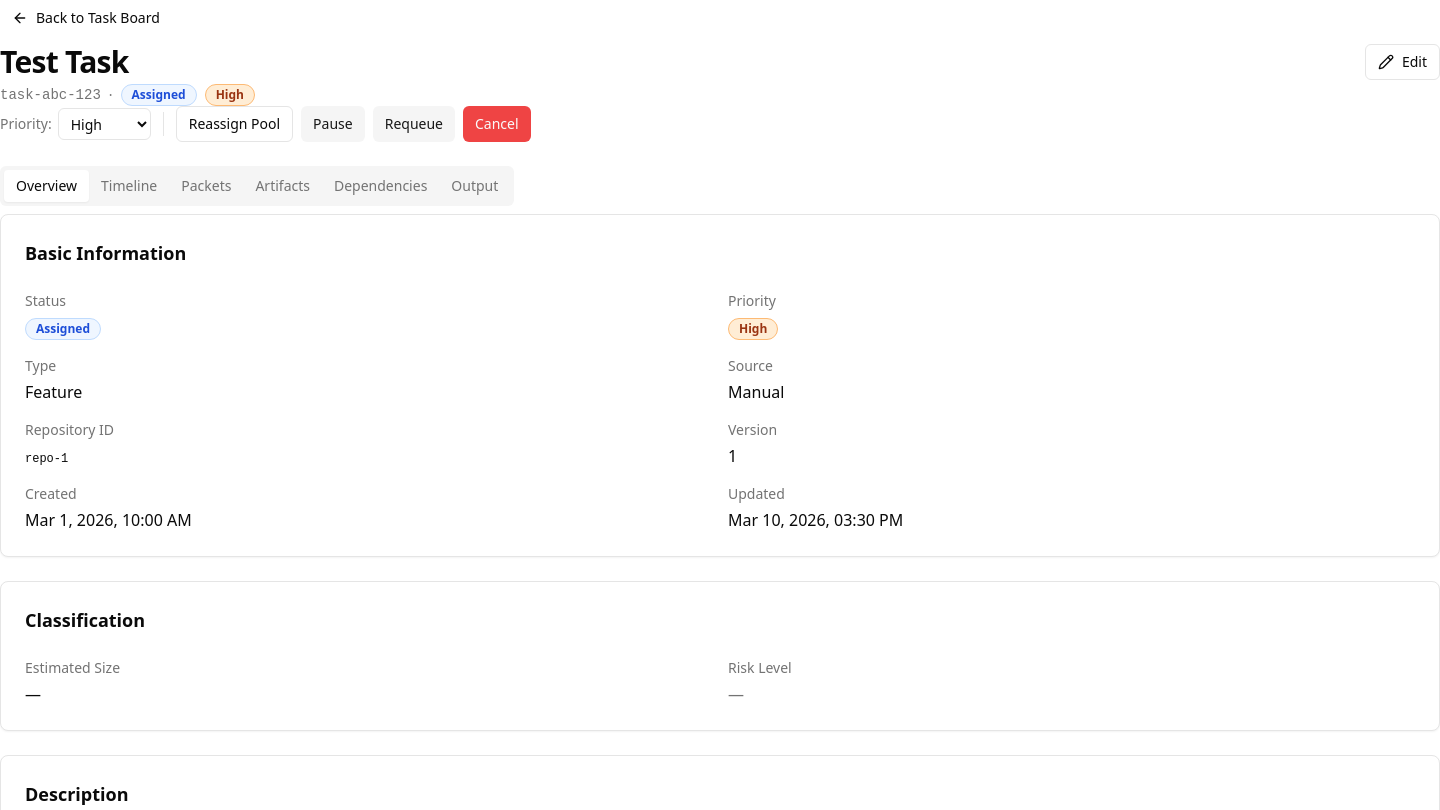
TaskActionBar integration › opens confirmation dialog on Pause click and submits
The width and height of the screenshot is (1440, 810).
Click the button with test id "action-btn-pause" at [333, 124], box [301, 106, 365, 142]
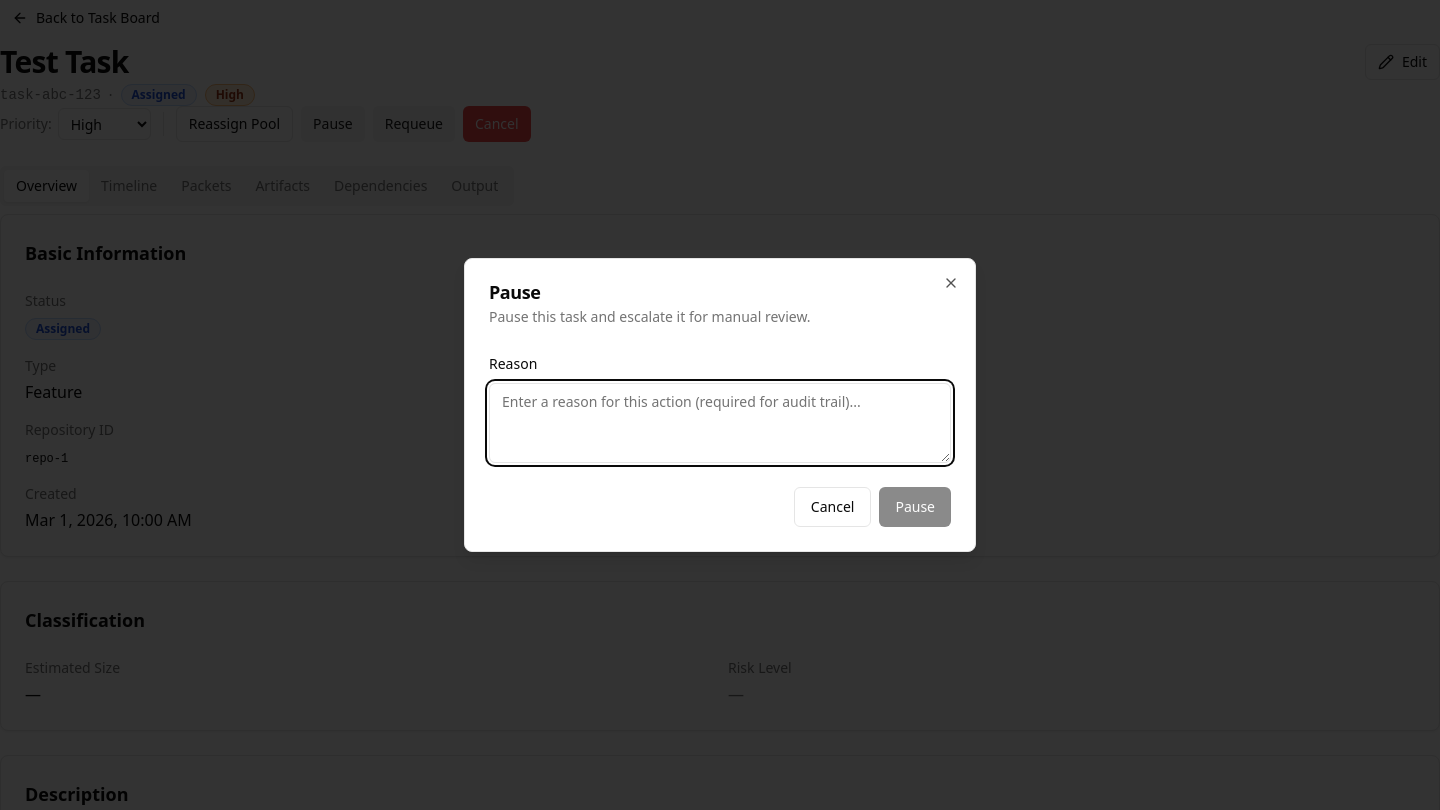
Expected: the dialog with test id "confirm-action-dialog" is shown, [464, 258, 976, 552]
Expected: the heading with test id "confirm-dialog-title" reads "Pause", [489, 280, 540, 304]
Expected: the button with test id "confirm-dialog-submit" is disabled, [879, 487, 951, 527]
# Type a reason
Type "Investigating flaky tests" into the text box with test id "confirm-dialog-reason" at [720, 423], box [489, 383, 951, 463]
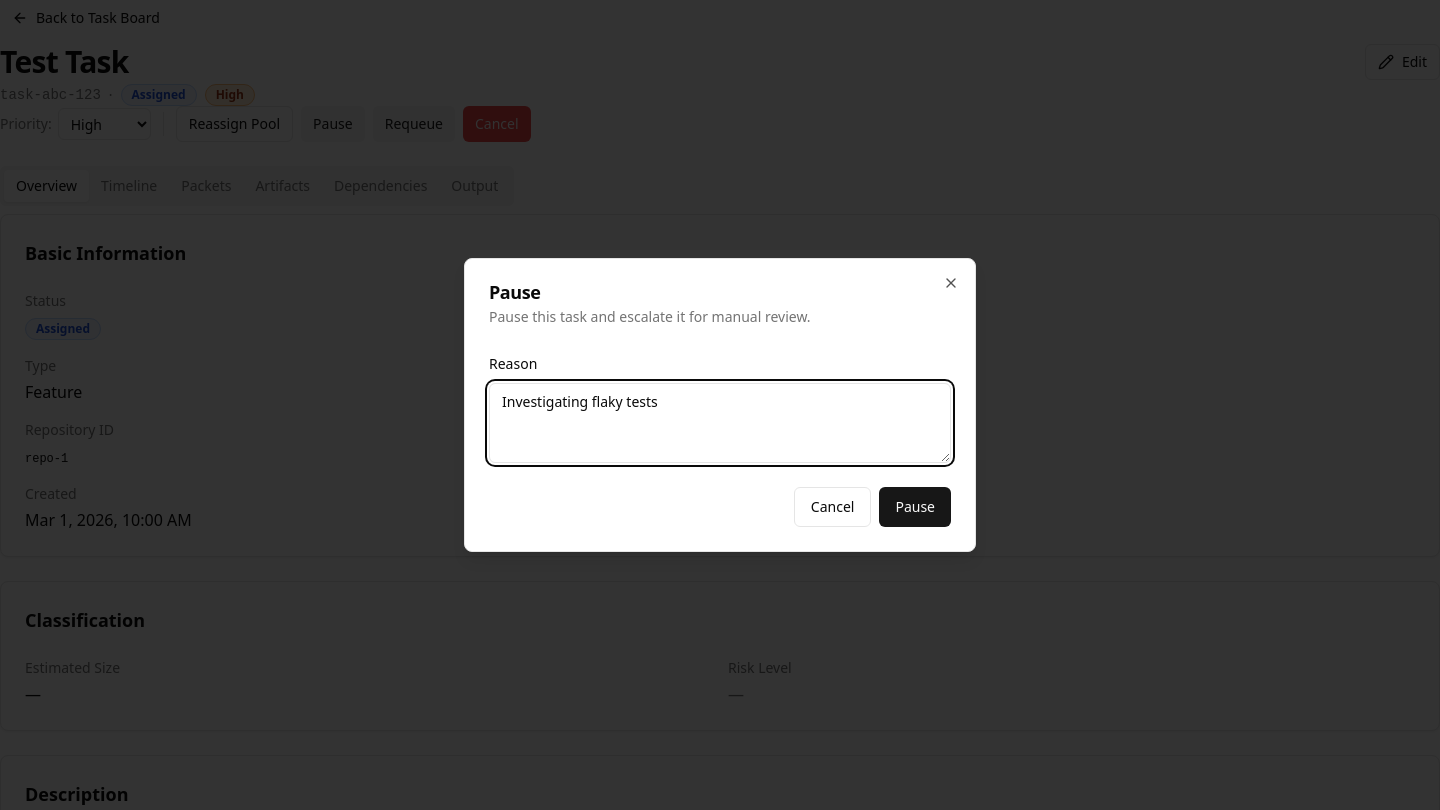
Expected: the button with test id "confirm-dialog-submit" is enabled
# Click confirm
Click the button with test id "confirm-dialog-submit" at [915, 507], box [879, 487, 951, 527]
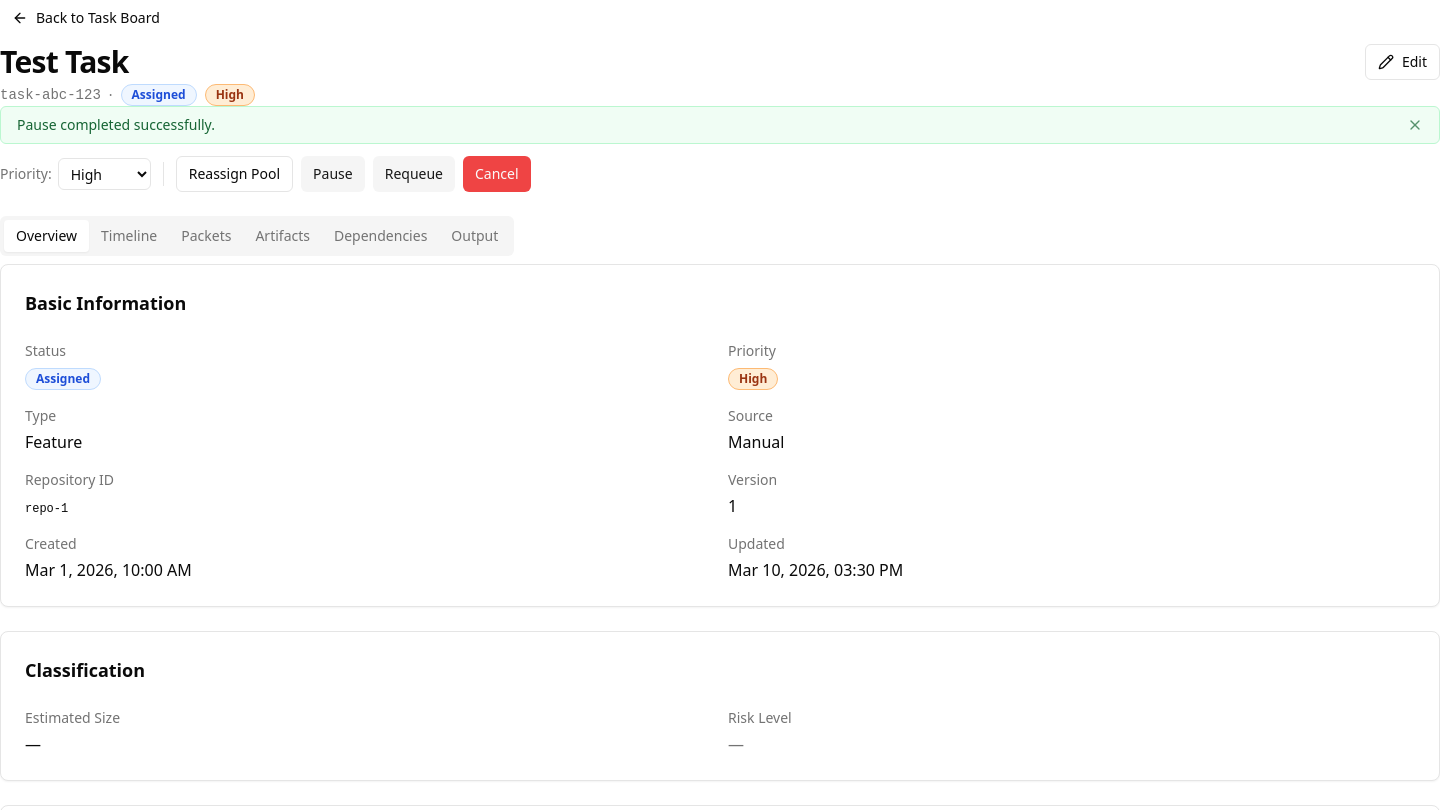
Expected: the message "Pause completed successfully." is shown, [0, 106, 1439, 144]
